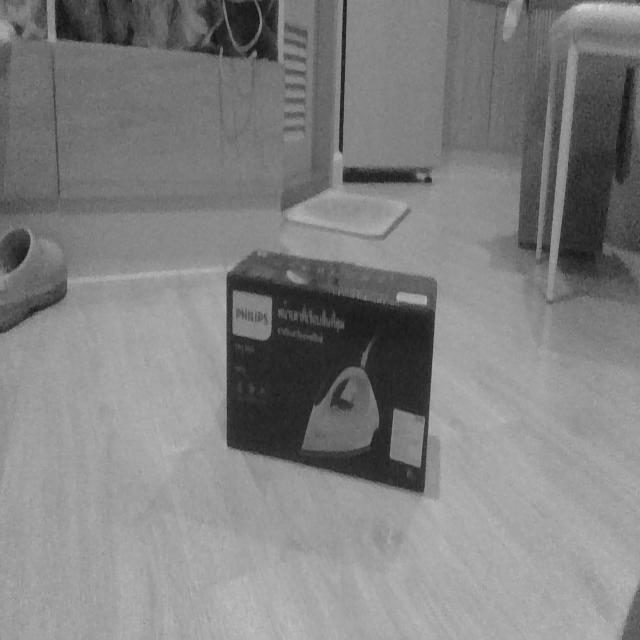IRON: (223, 244, 439, 498)
